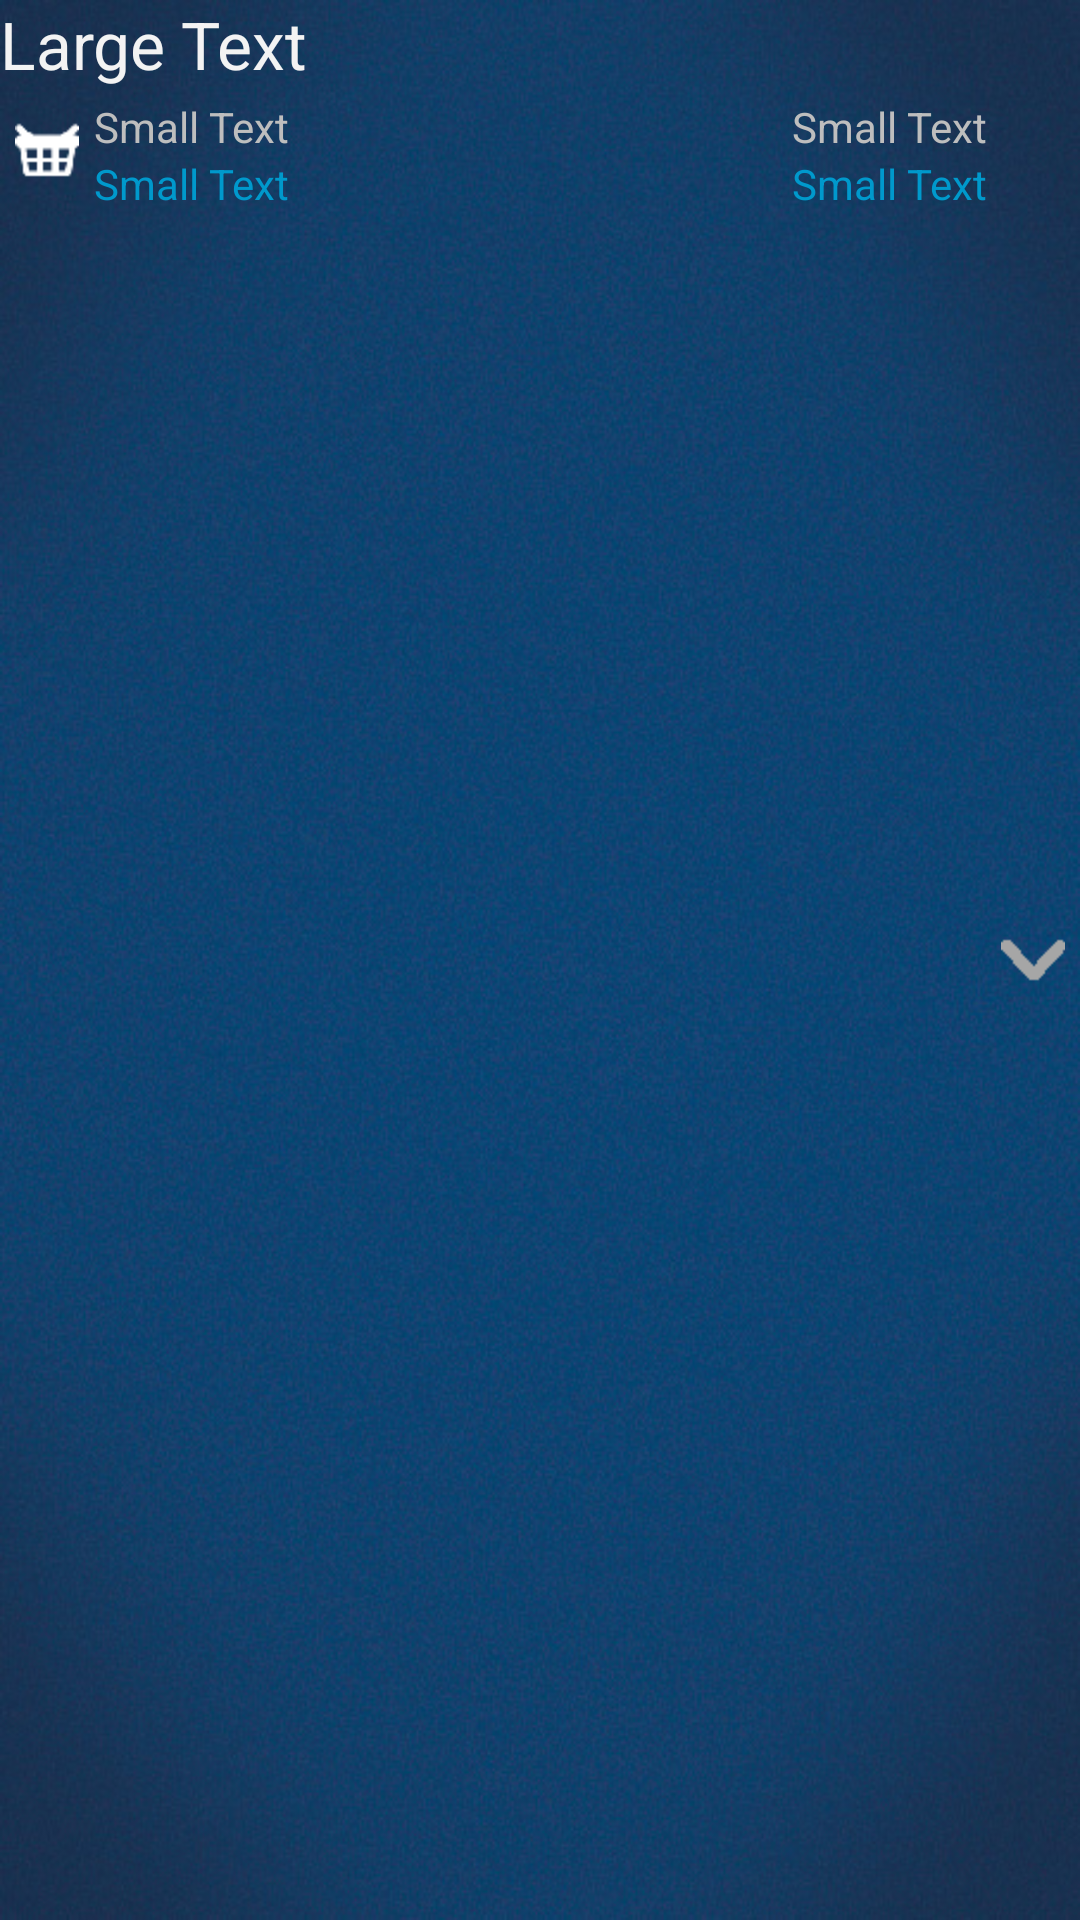

Icons on this 1080x1920 Android screen, each with its box as (x1, y1, x2, y2):
down: (1001, 939, 1065, 981)
items: (15, 123, 79, 177)
